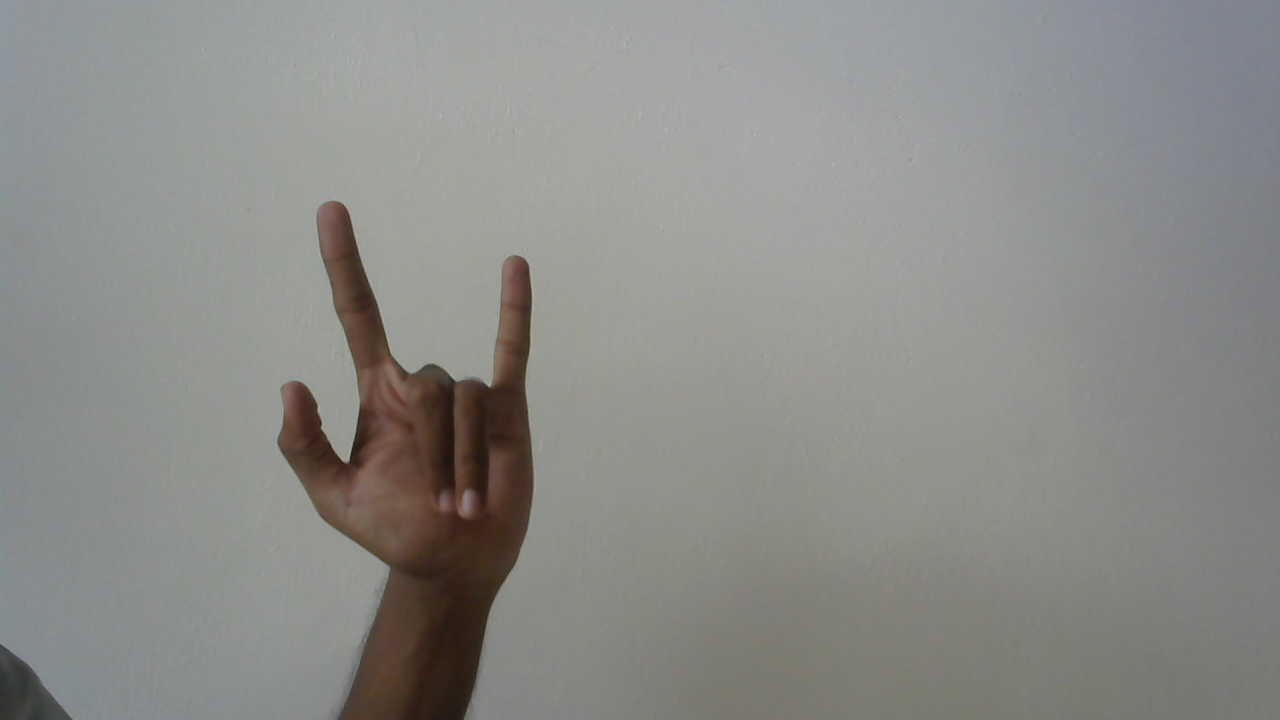iloveyou: (266, 190, 548, 601)
